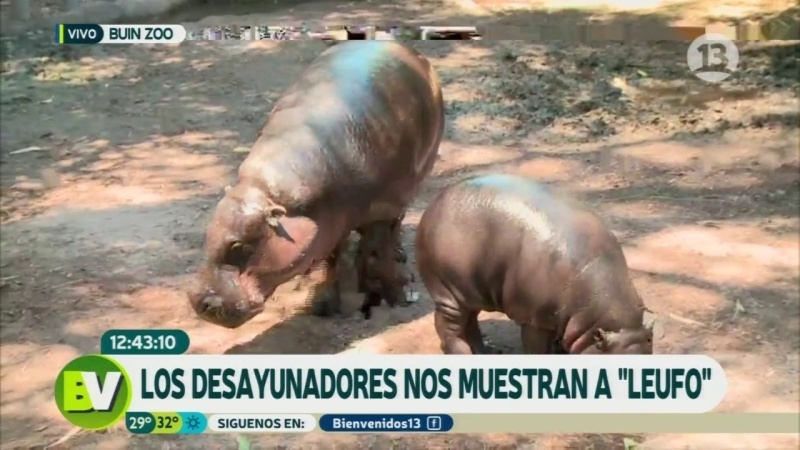hipopotamo: (169, 39, 452, 343), (401, 160, 684, 353)
